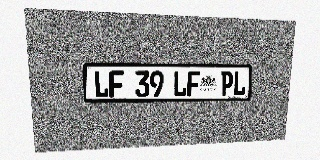3: (135, 71, 149, 97)
9: (150, 71, 164, 97)
F: (109, 70, 124, 97), (187, 71, 200, 96)
L: (93, 70, 109, 97), (173, 71, 187, 96), (233, 71, 246, 95)
P: (220, 71, 234, 96)
